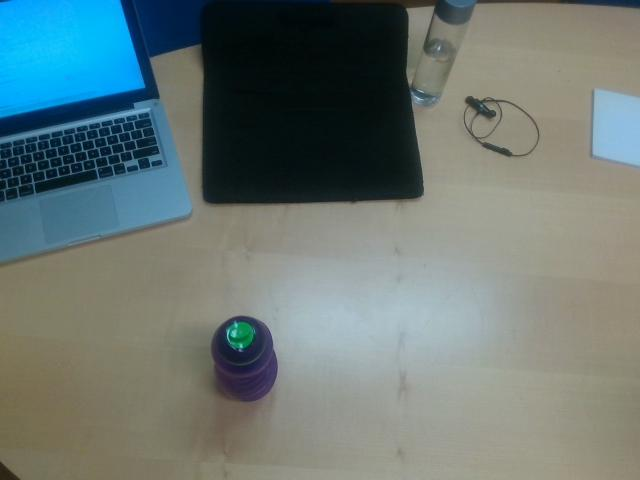bottle: (209, 314, 276, 400)
